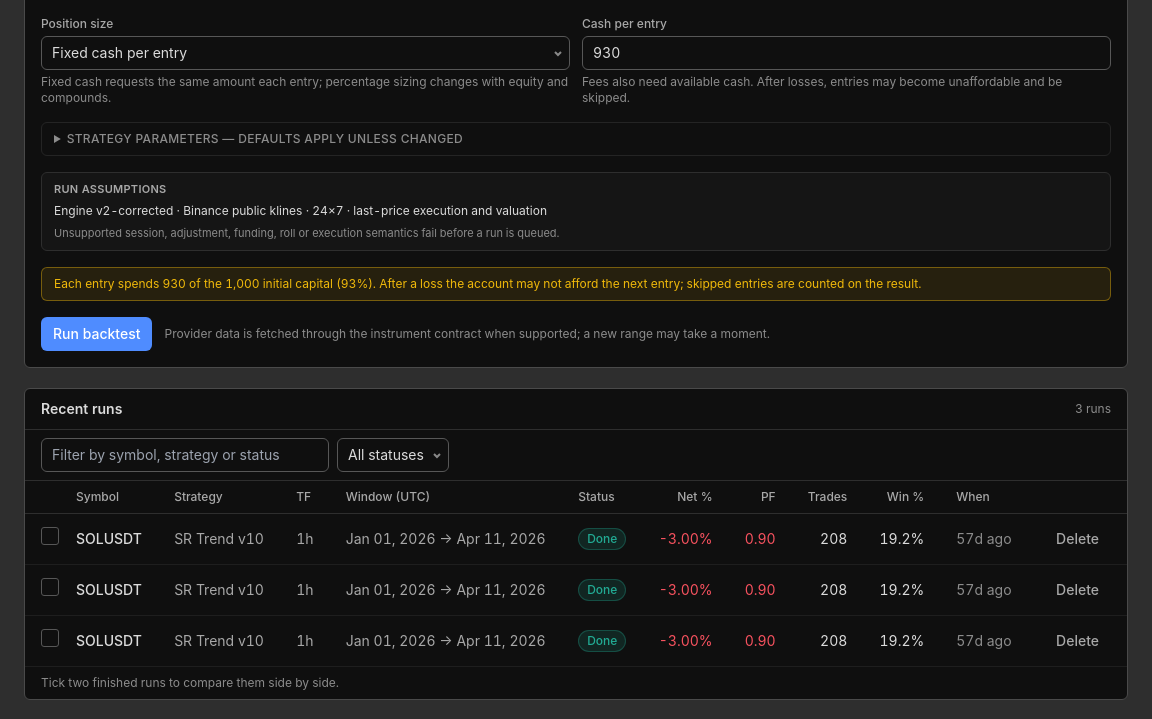
Scenario: two ticked runs are compared side by side, and a third cannot be ticked
(page scrolled)
Click the 1st checkbox named "Compare": [50, 536] box top-left (41, 527), bottom-right (59, 545)
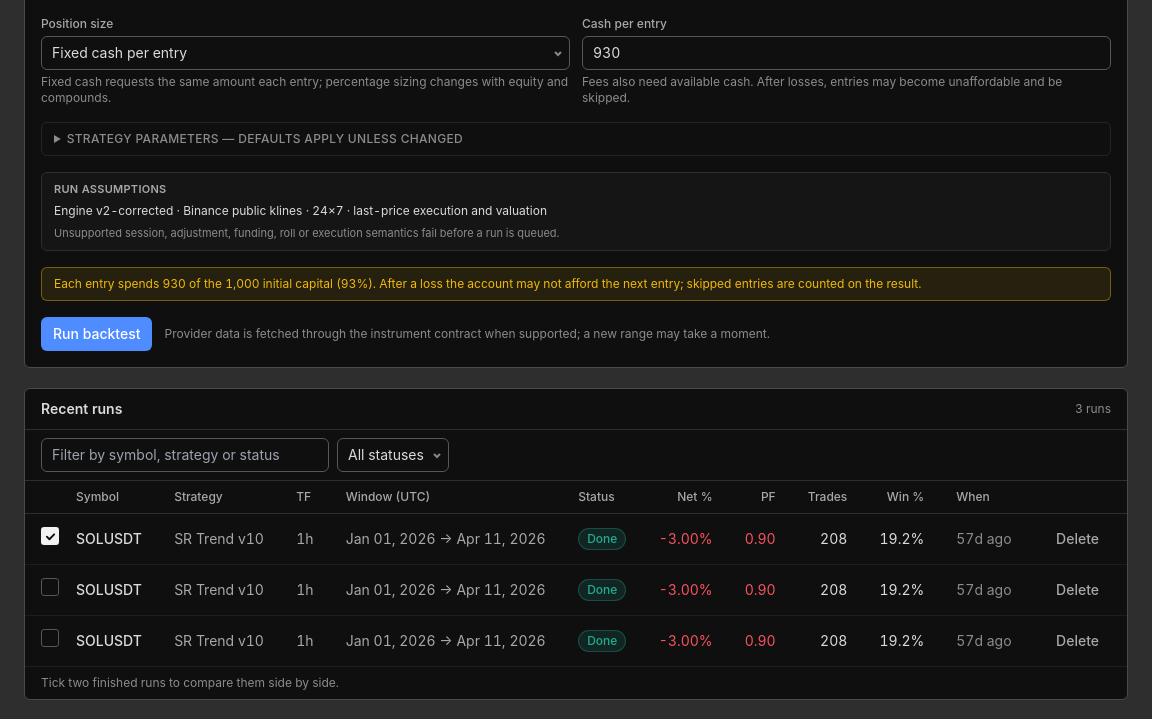
Click the 2nd checkbox named "Compare": [50, 587] box top-left (41, 578), bottom-right (59, 596)
(page scrolled)
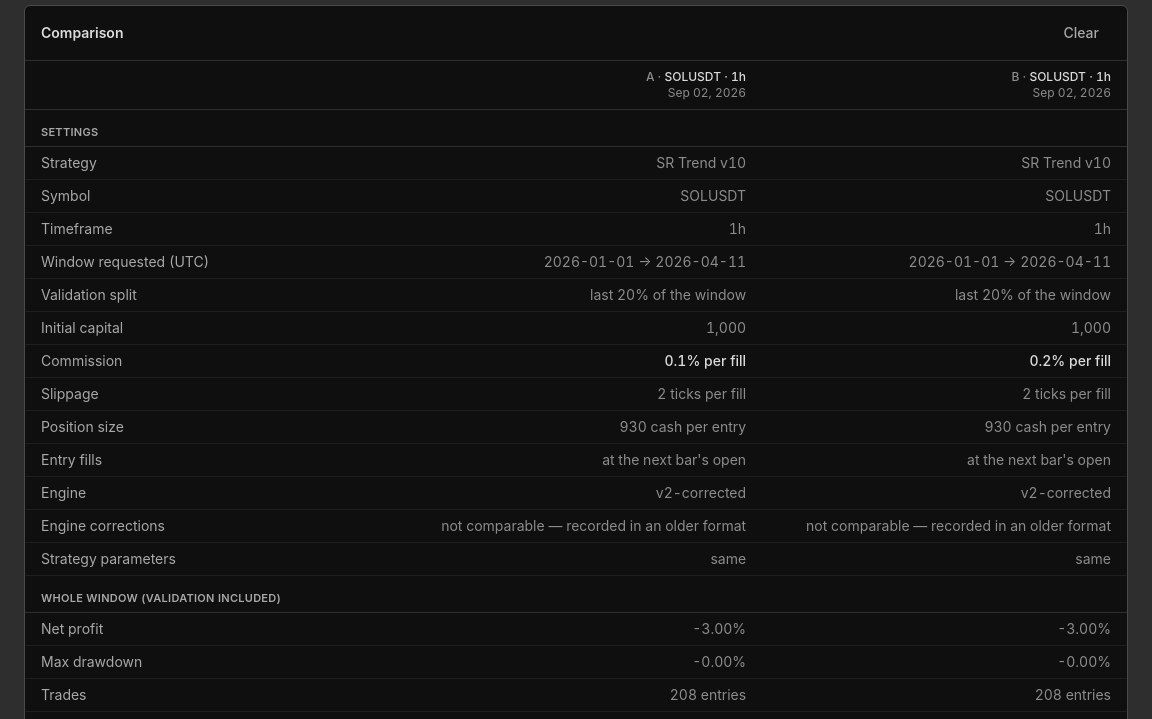
Now the row "Commission" reads "Commission 0.1% per fill 0.2% per fill", box top-left (25, 344), bottom-right (1127, 377)
